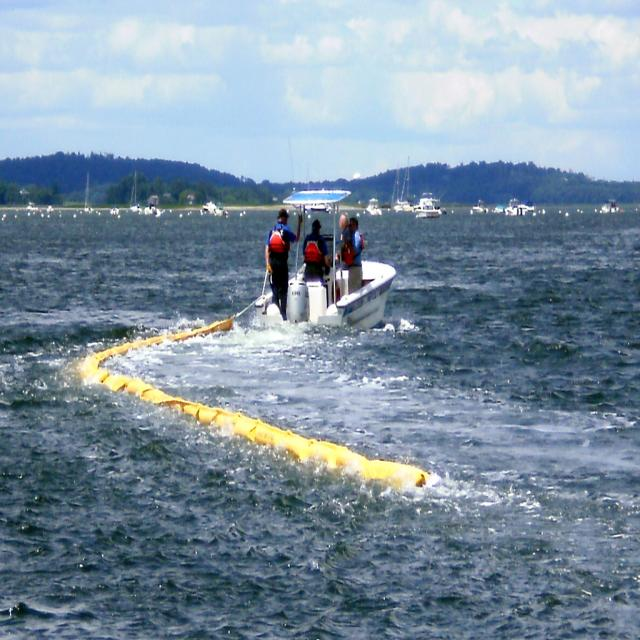Boat: (255, 183, 398, 336), (410, 193, 442, 220), (200, 197, 220, 217)
